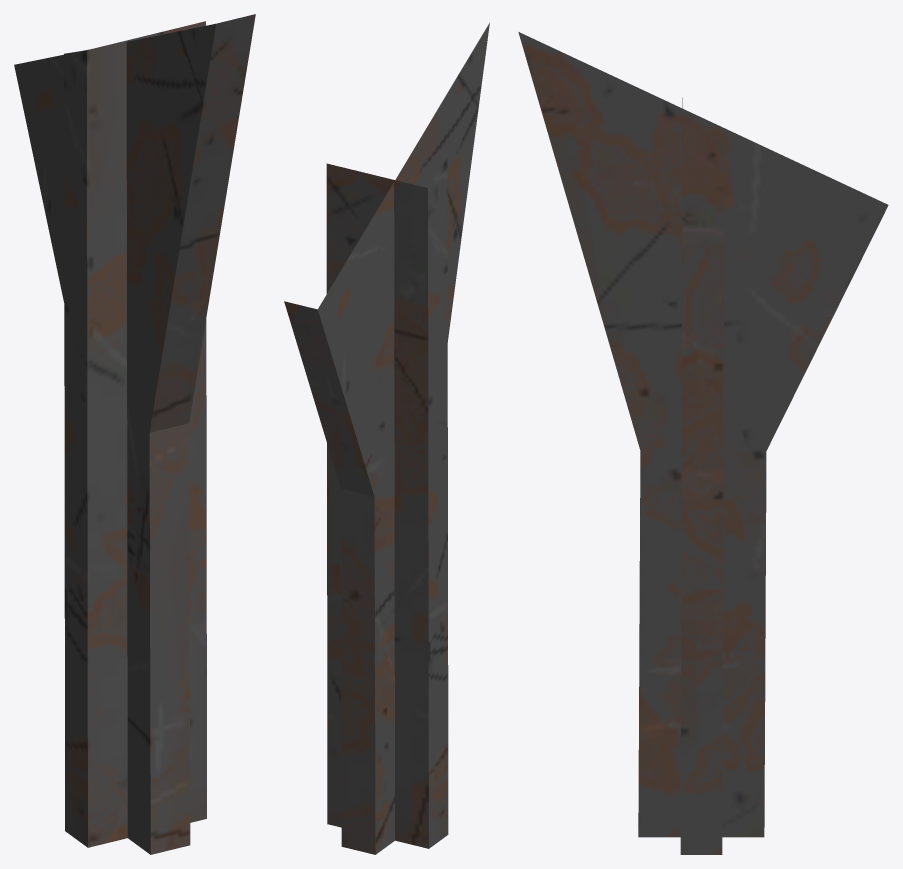
Rendered from conveyorsupport_top_slope.glb.
3 renders of one model, left to right at view 1: azimuth 30°, elevation 25°; view 2: azimuth 150°, elevation 25°; view 3: azimuth 270°, elevation 25°, orthographic. The views are drawn at different scales.
Visible parts, largest first — view 1: conveyorsupport_top_slope; view 2: conveyorsupport_top_slope; view 3: conveyorsupport_top_slope.
Part boxes in pixels (bbox=[...]): conveyorsupport_top_slope: bbox=[14, 14, 255, 854]; conveyorsupport_top_slope: bbox=[284, 22, 489, 854]; conveyorsupport_top_slope: bbox=[518, 32, 888, 854].
Bounding box in the file's own units: 0.1545 × 1.09 × 0.4542.
Materials: 1 (1 with a texture image).
